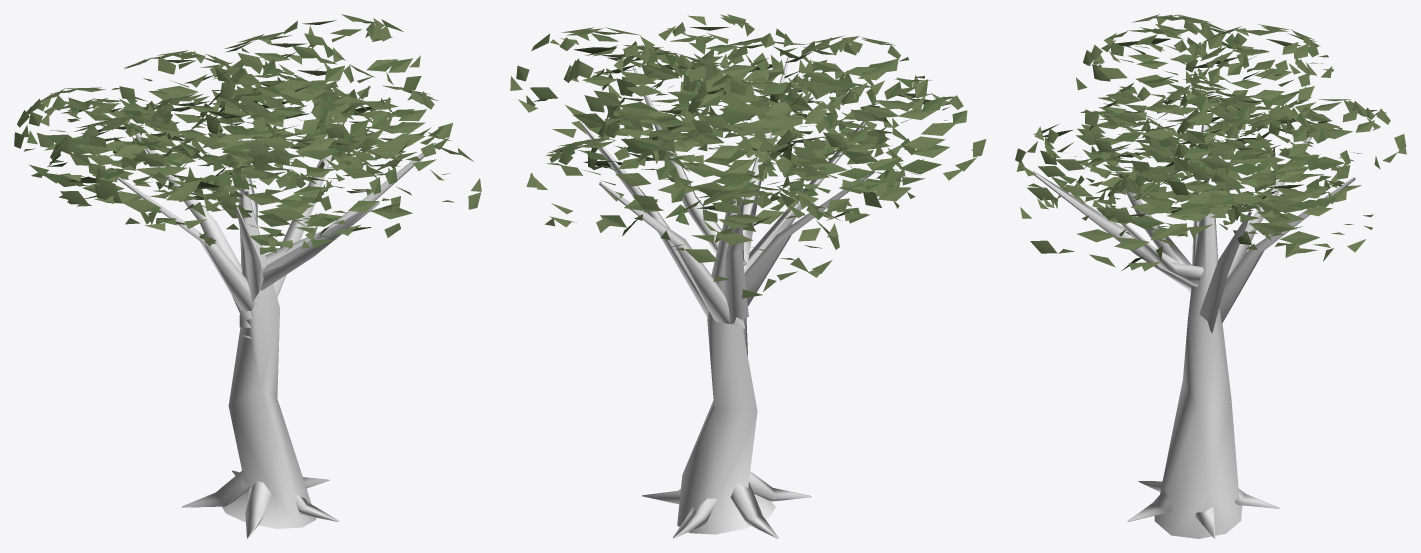
The model's file is SM_XF_Canopy_0.fbx.
3 views of the same model, side by side, from view 1: azimuth 30°, elevation 25°; view 2: azimuth 150°, elevation 25°; view 3: azimuth 270°, elevation 25° (orthographic). The views are drawn at different scales.
Parts seen in each view (by area): view 1: SM_XF_Canopy_0; view 2: SM_XF_Canopy_0; view 3: SM_XF_Canopy_0.
Boxes of the visible parts, left/top/right/bottom form: SM_XF_Canopy_0: left=14, top=14, right=481, bottom=538; SM_XF_Canopy_0: left=510, top=14, right=986, bottom=538; SM_XF_Canopy_0: left=1015, top=14, right=1406, bottom=538.
Size of the model in its own units: 500 by 456 by 563.
